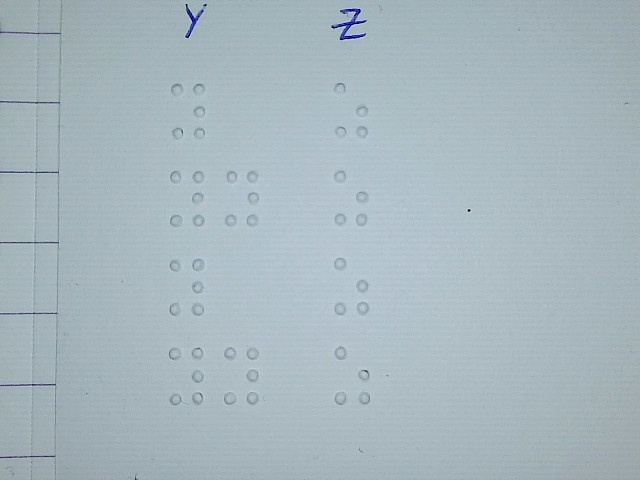Y: (170, 80, 207, 141), (169, 166, 206, 227), (224, 168, 261, 229), (168, 256, 205, 317), (223, 344, 260, 405), (168, 344, 205, 405)
Z: (333, 344, 372, 406), (333, 255, 369, 316), (332, 80, 368, 140), (333, 168, 369, 228)
